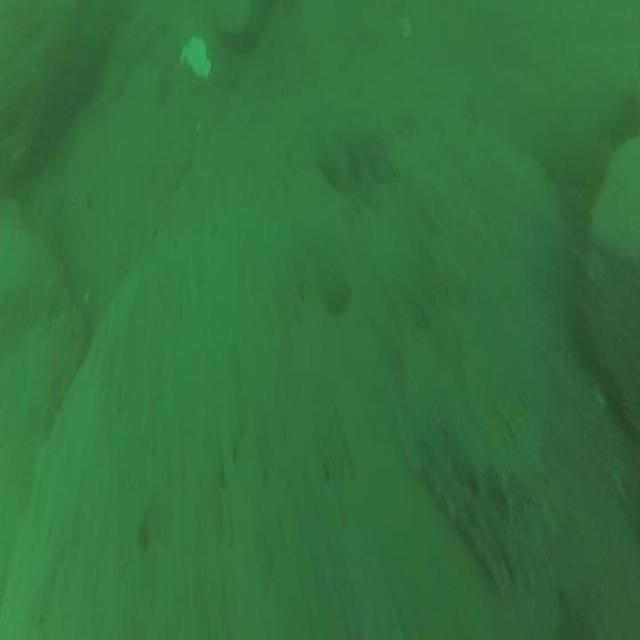holothurian: (452, 427, 545, 515)
starfish: (333, 115, 403, 201)
